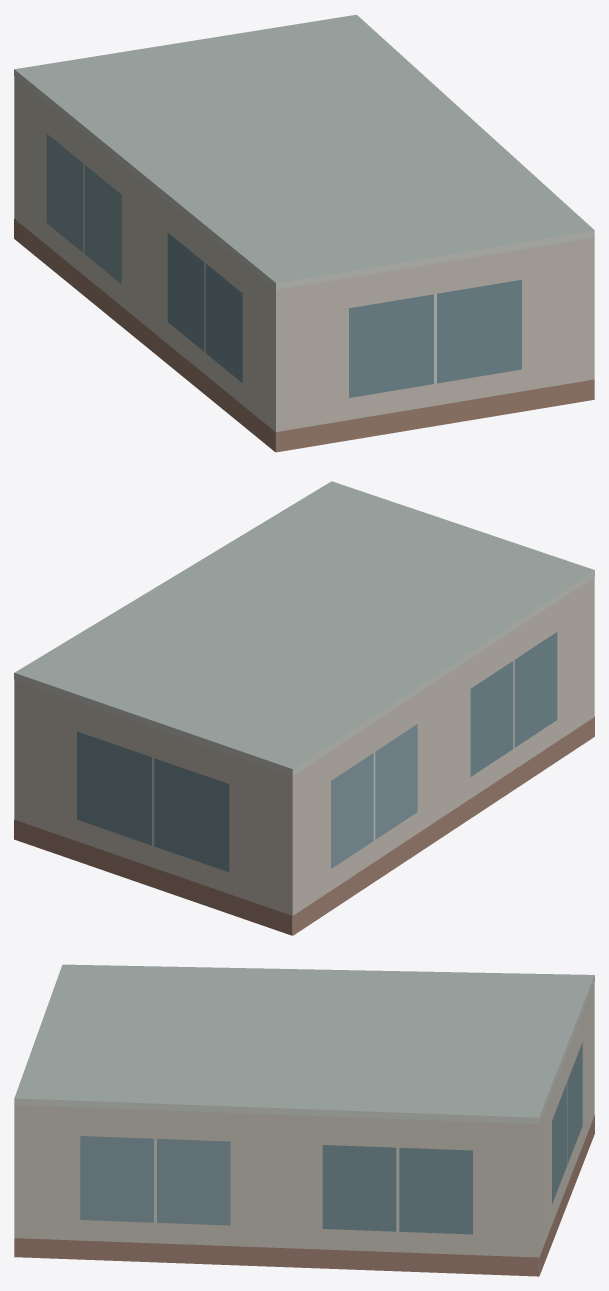
The model's file is survey-upis-33018306.glb.
3 renders of one model, top to bottom at view 1: azimuth 30°, elevation 25°; view 2: azimuth 150°, elevation 25°; view 3: azimuth 270°, elevation 25°, orthographic. The views are drawn at different scales.
Visible parts, largest first — view 1: survey-upis-33018306.tmp; view 2: survey-upis-33018306.tmp; view 3: survey-upis-33018306.tmp.
Part boxes in pixels (x1,y1,x2,y2): survey-upis-33018306.tmp: (14,14,594,452); survey-upis-33018306.tmp: (14,481,594,935); survey-upis-33018306.tmp: (14,964,594,1276).
Bounding box in the file's own units: 6.33 × 3.05 × 10.13.
